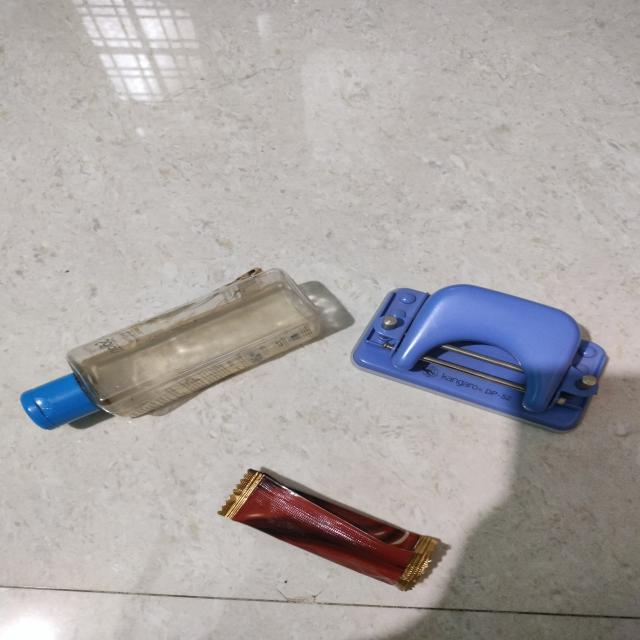metal: (352, 284, 606, 432)
plastic: (18, 267, 328, 430), (222, 468, 436, 592)
